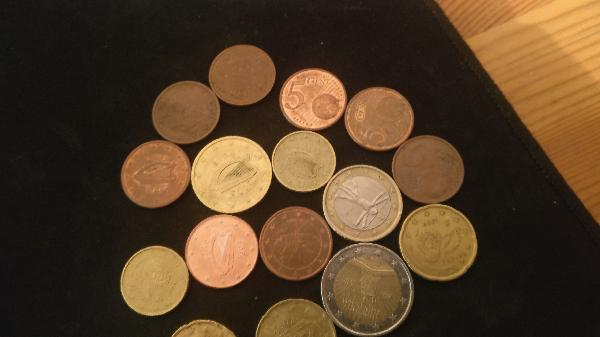Fifty Cent: (191, 133, 274, 211)
Five Cent: (180, 213, 263, 290), (259, 206, 330, 280), (391, 135, 468, 202), (118, 141, 192, 210), (344, 85, 414, 151), (152, 78, 218, 146), (276, 69, 346, 127), (211, 49, 276, 107)
One Euro: (324, 160, 409, 248)
Ten Cent: (114, 247, 191, 315), (270, 129, 337, 193)
Twenty Cent: (397, 201, 487, 284), (251, 299, 337, 337)
Two Euro: (320, 242, 418, 335)
